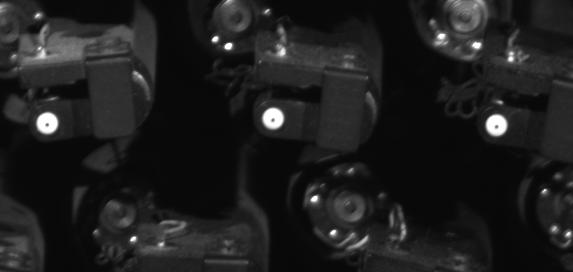fiber: (480, 107, 514, 141), (32, 107, 65, 141), (258, 101, 291, 134)
